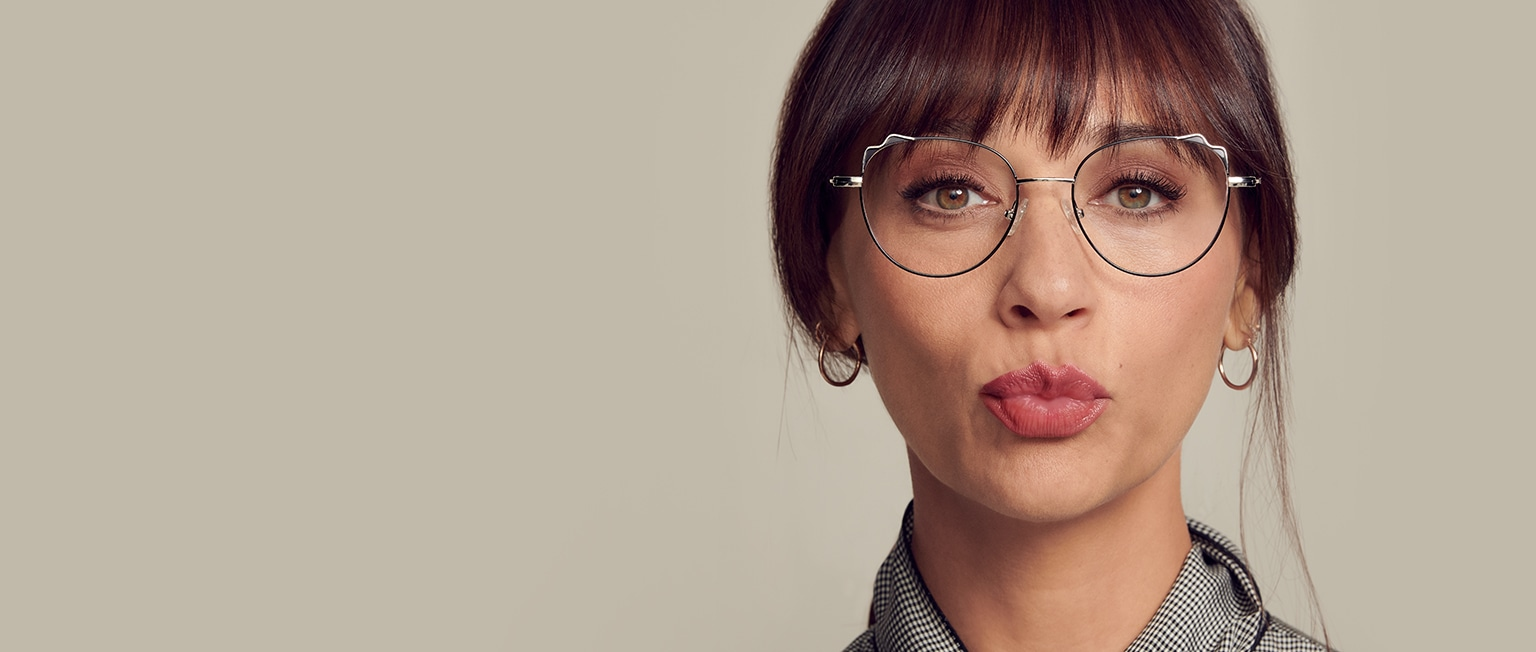llen: (1070, 137, 1228, 276)
rlen: (860, 138, 1019, 277)
